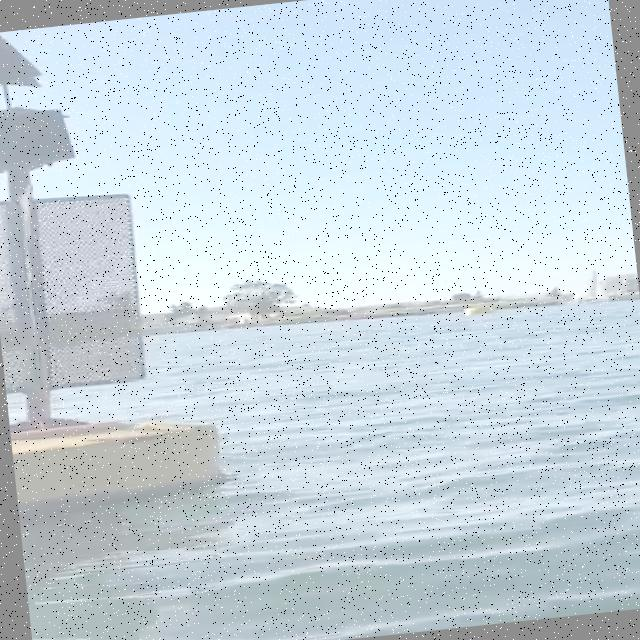marque: (1, 14, 229, 521)
